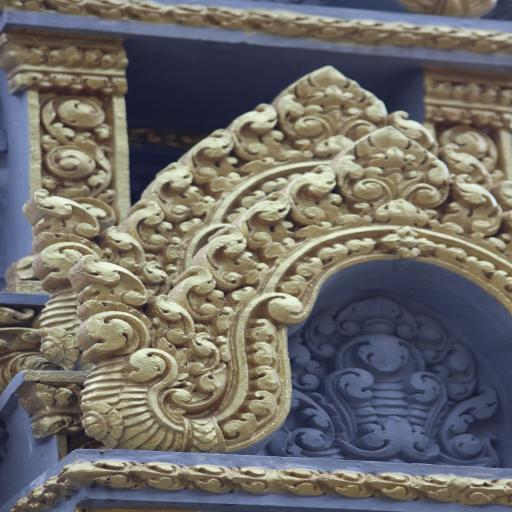la: (44, 244, 157, 362), (344, 128, 444, 225), (279, 64, 385, 150), (39, 90, 105, 200), (164, 330, 230, 407), (29, 191, 110, 245), (292, 160, 344, 234), (170, 268, 226, 332), (441, 174, 497, 238), (202, 219, 252, 289), (238, 97, 289, 164), (250, 188, 290, 260), (154, 158, 196, 226), (197, 126, 239, 193), (124, 198, 166, 252), (317, 467, 373, 504), (371, 470, 423, 506), (140, 459, 195, 492), (354, 16, 408, 48), (383, 108, 430, 144), (300, 12, 351, 44), (466, 22, 512, 57), (464, 475, 512, 508), (207, 4, 259, 34), (44, 462, 81, 504), (89, 457, 137, 489), (413, 20, 463, 50), (424, 472, 464, 509), (256, 6, 302, 37), (193, 464, 237, 496), (236, 466, 281, 497), (279, 467, 323, 498), (38, 43, 90, 67), (11, 72, 72, 92), (87, 45, 127, 73), (172, 0, 210, 29), (464, 83, 512, 104), (129, 0, 168, 23), (79, 73, 126, 92), (9, 38, 40, 65), (430, 105, 470, 124), (86, 0, 124, 19), (424, 81, 466, 98), (470, 107, 504, 127)
